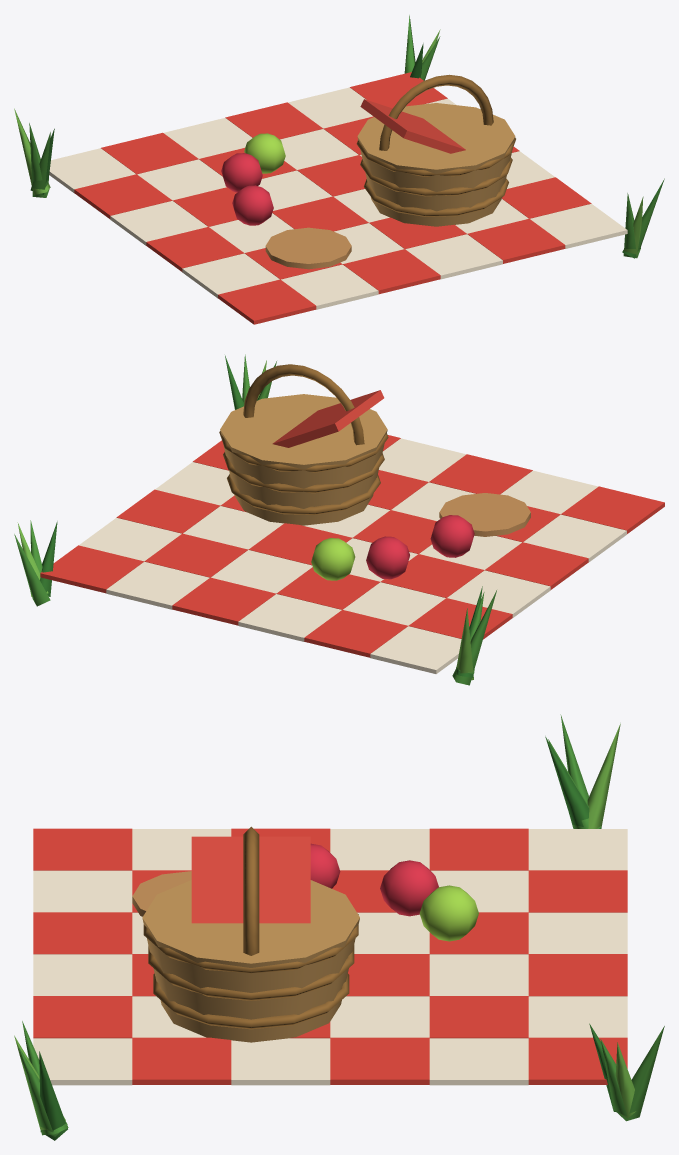
Rendered from PicnicSet.glb.
3 renders of one model, top to bottom at view 1: azimuth 30°, elevation 25°; view 2: azimuth 150°, elevation 25°; view 3: azimuth 270°, elevation 25°, orthographic. The views are drawn at different scales.
Parts seen in each view (by area): view 1: Body, Sway; view 2: Body, Sway; view 3: Body, Sway.
Boxes of the visible parts, x1,y1,x2,y2 form: Body: (49, 72, 627, 324); Sway: (14, 15, 664, 258); Body: (40, 364, 664, 673); Sway: (14, 354, 496, 685); Body: (33, 826, 627, 1085); Sway: (14, 714, 664, 1140).
Bounding box in the file's own units: 3.59 × 1.22 × 3.29.
Materials: 2 (2 with a texture image).
